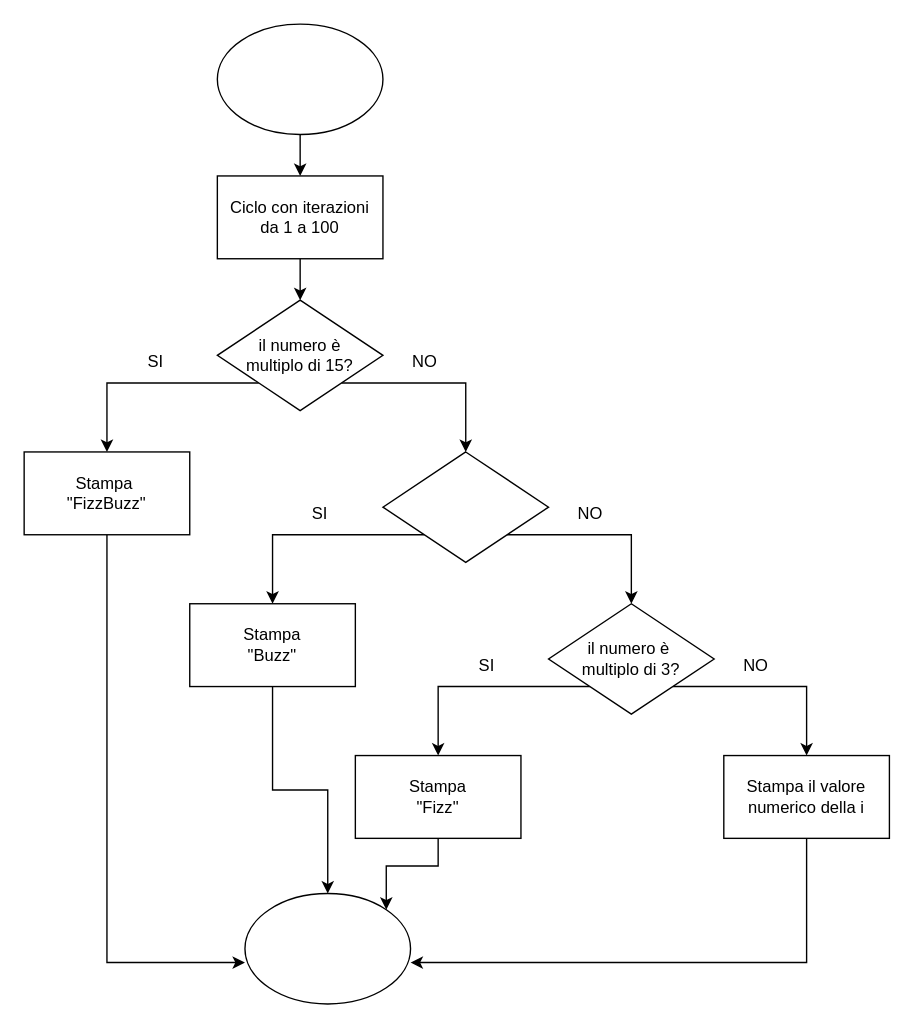
The diagram is 914 pixels wide and 1028 high, and some of its shapes have lost their labels. The centre of each missing label's shape, as x and y in pixels:
"Fine" belongs at (327,948).
"il numero è multiplo di 5?" belongs at (465,506).
"Inizio" belongs at (299,79).
